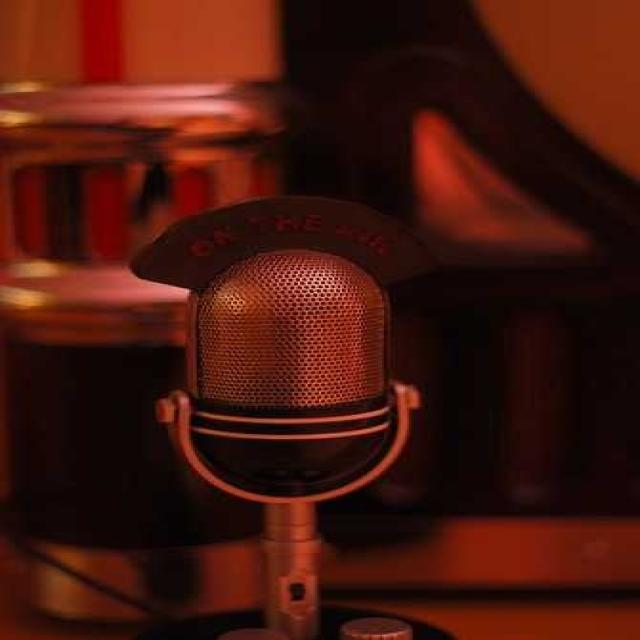microphone: (182, 250, 400, 503)
